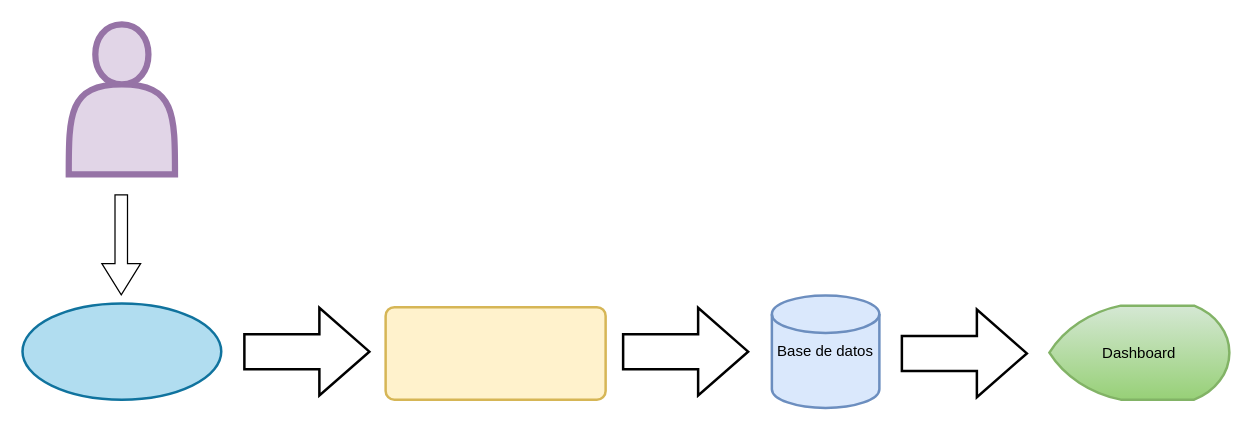
This 1253x431 diagram has some shape labels left out. Each missing label, with the centre of its shape:
Bot de telegram: (x=121, y=351)
Python: (x=495, y=352)
